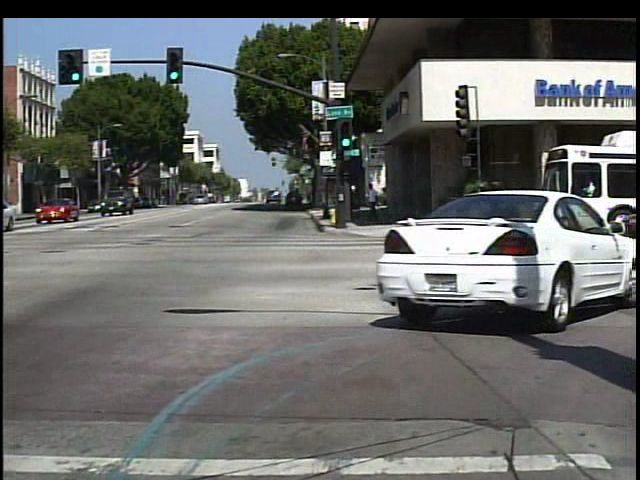person: (364, 182, 382, 218)
